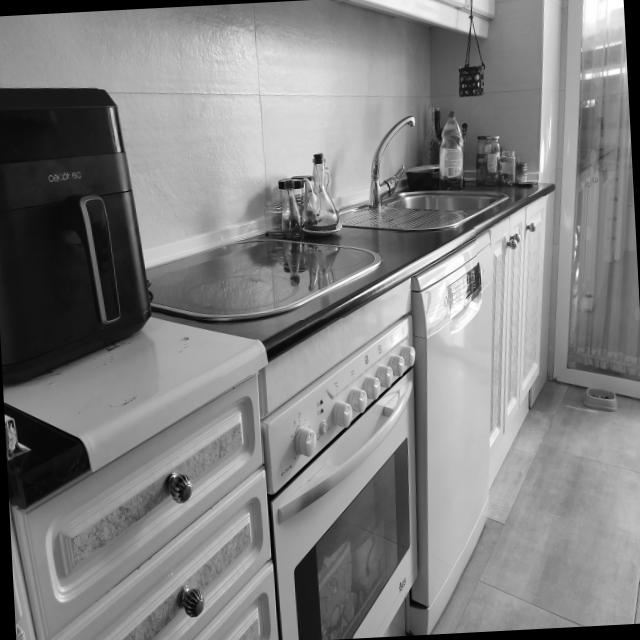cabinet: (11, 375, 279, 640), (490, 196, 547, 487), (328, 0, 495, 37)
countertop: (3, 185, 554, 510)
oven: (262, 315, 418, 640)
shower: (340, 117, 509, 232)
sofa: (147, 240, 383, 323)
